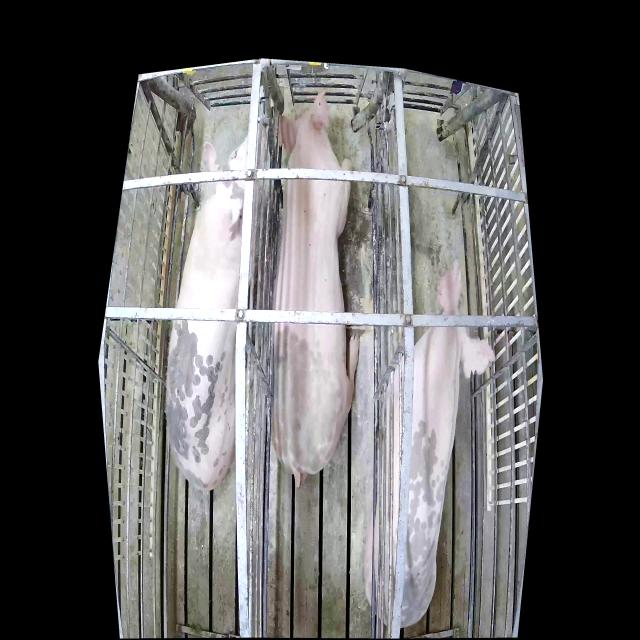pig: (365, 258, 496, 629), (167, 123, 267, 494), (271, 90, 360, 489)
